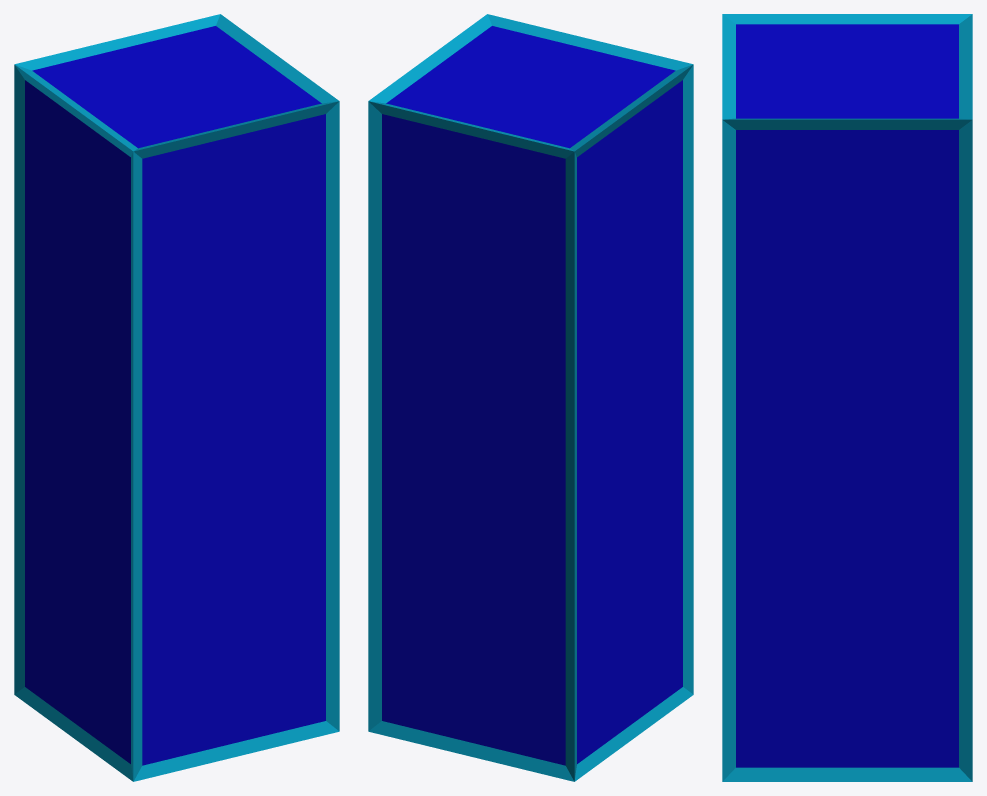
The model's file is verticalRectangle1-3-1Blue.obj.
3 renders of one model, left to right at view 1: azimuth 30°, elevation 25°; view 2: azimuth 150°, elevation 25°; view 3: azimuth 270°, elevation 25°, orthographic. The views are drawn at different scales.
Parts seen in each view (by area): view 1: Cube.005_Cube.007_Material.001, Cube.005_Cube.007_Material.002; view 2: Cube.005_Cube.007_Material.001, Cube.005_Cube.007_Material.002; view 3: Cube.005_Cube.007_Material.001, Cube.005_Cube.007_Material.002.
Part boxes in pixels (x1,y1,x2,y2): Cube.005_Cube.007_Material.001: [25, 26, 325, 765]; Cube.005_Cube.007_Material.002: [14, 14, 339, 781]; Cube.005_Cube.007_Material.001: [382, 26, 682, 765]; Cube.005_Cube.007_Material.002: [368, 14, 693, 781]; Cube.005_Cube.007_Material.001: [736, 24, 958, 767]; Cube.005_Cube.007_Material.002: [722, 14, 972, 781].
Size of the model in its own units: 1.04 by 3.04 by 1.04.
